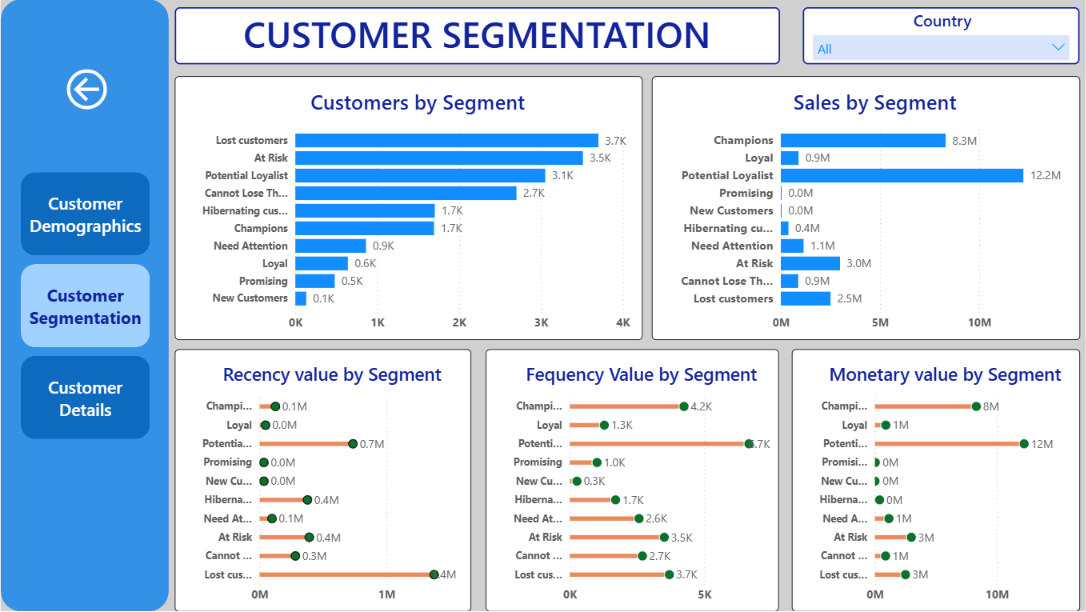

This screenshot's page, from the dashboard's own definition file:
{"tool":"powerbi","page":{"name":"Customer Segmentation","canvas":[1280,720],"ordinal":1},"visuals":[{"type":"barChart","title":"Customers by Segment","fields":{"Y":["Count(FactInternetSales.CustomerKey)"],"Category":["Sheet1.Segment"]},"box":[204.5,90.6,550.3,310.1],"z":0},{"type":"barChart","title":"Sales by Segment","fields":{"Category":["Sheet1.Segment"],"Y":["Sum(FactInternetSales.SalesAmount)"]},"box":[765.7,90.6,503.6,310.1],"z":1000},{"type":"barChart","fields":{"Y":["Sum(RFM Table.recency value)"],"Category":["Sheet1.Segment"]},"box":[204.5,411.7,348.5,308.7],"z":2000},{"type":"barChart","fields":{"Category":["Sheet1.Segment"],"Y":["Sum(RFM Table.fequency Value)"]},"box":[570.8,411.7,344.4,308.7],"z":3000},{"type":"barChart","fields":{"Category":["Sheet1.Segment"],"Y":["Sum(RFM Table.monetary value)"]},"box":[930.4,411.7,338.9,308.7],"z":4000},{"type":"shape","box":[0,0,197.6,720.4],"z":5000},{"type":"pageNavigator","box":[23.3,203.1,152.3,315.6],"z":6000},{"type":"textbox","box":[204.5,9.6,712.2,67.2],"z":7000},{"type":"slicer","title":"Country","fields":{"Values":["DimGeography.EnglishCountryRegionName"]},"box":[944.1,9.6,325.2,67.2],"z":8000},{"type":"actionButton","box":[71.4,76.8,83.7,59],"z":9000}]}

Visuals, with their boxes in screenshot pixels (x1, y1, x2, y2), scaled from the page's 1280x720 canvas onto the 1086x612 screenshot:
"Customers by Segment" barChart: [left=174, top=77, right=640, bottom=341]
"Sales by Segment" barChart: [left=650, top=77, right=1077, bottom=341]
barChart - Sum(RFM Table.recency value) x Sheet1.Segment: [left=174, top=350, right=469, bottom=611]
barChart - Sheet1.Segment x Sum(RFM Table.fequency Value): [left=484, top=350, right=776, bottom=611]
barChart - Sheet1.Segment x Sum(RFM Table.monetary value): [left=789, top=350, right=1077, bottom=611]
shape: [left=0, top=0, right=168, bottom=611]
pageNavigator: [left=20, top=173, right=149, bottom=441]
textbox: [left=174, top=8, right=778, bottom=65]
"Country" slicer: [left=801, top=8, right=1077, bottom=65]
actionButton: [left=61, top=65, right=132, bottom=115]
